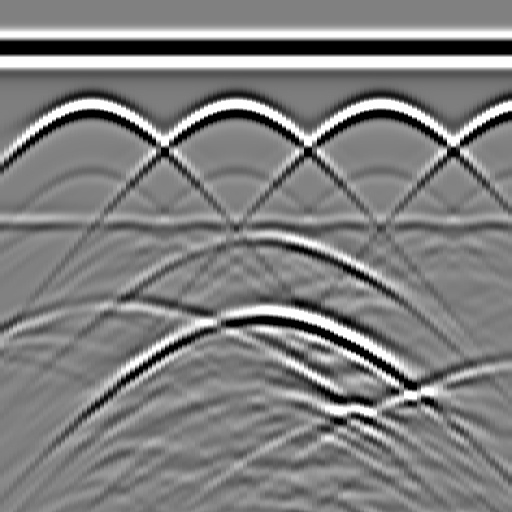grout_surface: (1, 209, 512, 239)
rebar: (69, 88, 109, 128), (214, 88, 254, 128), (358, 88, 398, 128), (502, 88, 512, 128)
rock_surface: (1, 304, 511, 409)
water_void: (232, 214, 292, 254)
